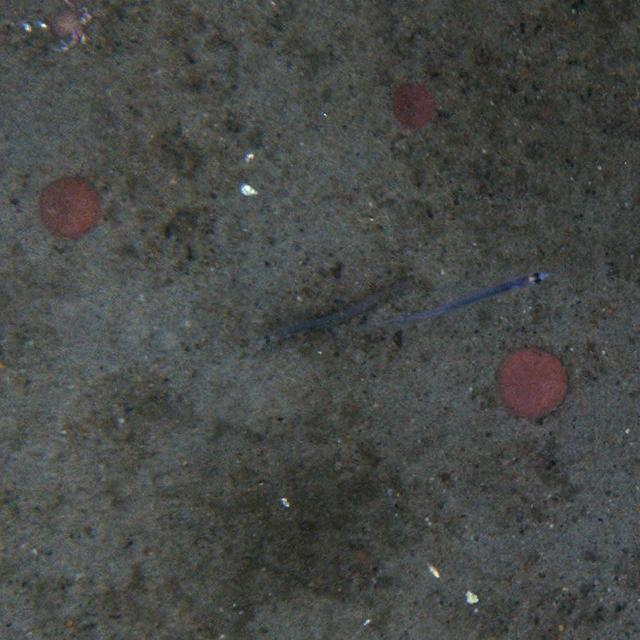roundfish: (382, 270, 558, 323)
